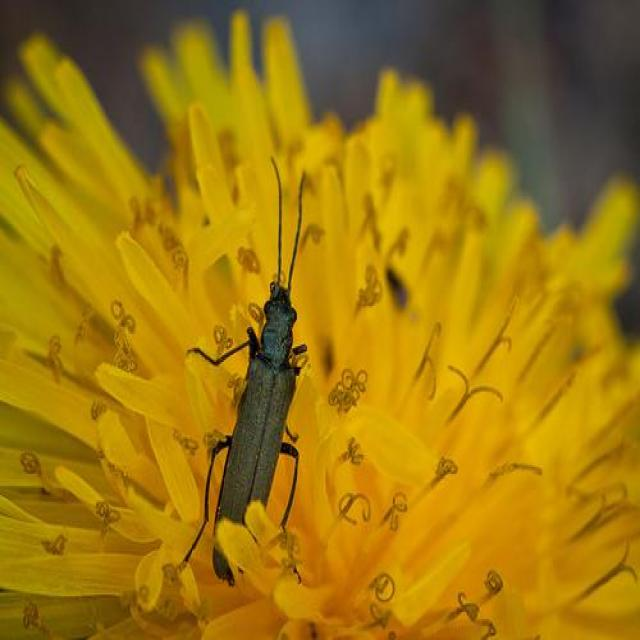BlisterBeetle-Adult-: (136, 132, 331, 596)
